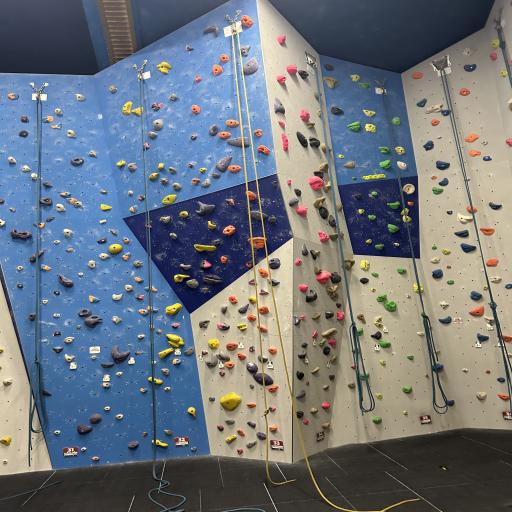holds: (220, 392, 242, 411), (111, 345, 130, 364), (216, 156, 234, 172), (242, 57, 258, 75), (253, 373, 274, 386), (166, 334, 185, 348), (84, 315, 103, 328), (196, 202, 215, 215), (309, 176, 325, 191), (227, 137, 250, 147), (248, 237, 267, 249), (323, 76, 340, 89), (10, 228, 32, 238), (203, 274, 223, 285), (59, 274, 74, 288), (316, 271, 332, 284), (274, 97, 286, 114), (457, 212, 474, 224), (248, 211, 268, 221), (424, 104, 444, 114), (326, 285, 339, 300), (166, 303, 182, 315), (194, 244, 217, 252), (204, 25, 219, 37), (158, 348, 174, 359), (162, 194, 178, 205), (297, 132, 308, 148), (30, 250, 44, 262), (157, 62, 171, 74), (342, 258, 356, 270), (77, 424, 93, 434), (461, 243, 477, 253), (206, 354, 218, 367), (122, 101, 133, 115), (216, 350, 231, 360), (469, 306, 484, 316), (152, 439, 168, 448), (174, 274, 190, 283), (208, 338, 220, 350), (241, 15, 253, 27), (296, 205, 308, 217), (306, 290, 318, 302), (318, 230, 330, 242), (362, 174, 386, 180), (268, 258, 281, 269), (222, 225, 236, 235), (402, 184, 416, 194), (347, 122, 361, 132), (322, 328, 337, 337), (246, 362, 258, 373), (239, 45, 251, 56), (330, 272, 342, 283), (314, 197, 326, 208), (40, 196, 53, 206), (109, 244, 122, 254), (437, 160, 450, 170), (282, 133, 289, 151), (463, 47, 477, 56), (0, 436, 12, 446), (90, 414, 102, 424), (78, 309, 93, 317), (148, 377, 163, 385), (213, 64, 223, 76), (209, 124, 219, 136), (286, 65, 298, 75), (310, 136, 320, 148), (384, 301, 396, 311), (380, 159, 392, 169), (480, 228, 495, 236), (186, 279, 199, 288), (71, 157, 84, 166), (335, 225, 344, 238), (238, 304, 249, 314), (258, 268, 269, 278), (153, 119, 163, 130), (323, 181, 333, 192), (319, 162, 329, 173), (321, 143, 332, 153), (423, 140, 434, 150), (471, 290, 482, 300), (131, 107, 143, 116), (258, 145, 270, 154), (301, 110, 310, 122), (388, 224, 400, 233), (454, 230, 469, 237), (217, 322, 230, 330), (226, 119, 239, 127), (301, 243, 309, 256), (331, 107, 344, 115), (466, 134, 479, 142), (489, 202, 502, 210), (439, 316, 452, 324), (258, 354, 268, 364), (201, 178, 211, 188), (360, 260, 370, 270), (366, 123, 376, 133), (298, 70, 309, 79), (395, 146, 406, 155), (432, 269, 443, 278), (246, 440, 258, 448), (89, 295, 101, 303), (200, 260, 212, 268), (51, 122, 63, 130), (226, 342, 238, 350), (258, 306, 270, 314), (320, 207, 328, 219), (432, 364, 444, 372), (379, 340, 391, 348), (379, 146, 391, 154), (478, 333, 490, 341), (267, 279, 280, 286), (228, 165, 241, 172), (387, 202, 400, 209), (486, 259, 499, 266), (122, 252, 132, 261), (184, 347, 194, 356), (128, 162, 137, 172), (246, 191, 256, 200), (277, 34, 286, 44), (289, 197, 299, 206), (357, 314, 366, 324), (397, 161, 407, 170), (417, 98, 427, 107), (2, 378, 13, 386), (128, 441, 139, 449), (188, 407, 196, 418), (199, 320, 210, 328), (149, 172, 160, 180), (476, 392, 487, 400), (371, 332, 382, 340), (376, 294, 387, 302), (484, 316, 495, 324), (501, 334, 512, 342), (8, 93, 20, 100), (40, 264, 52, 271), (42, 116, 54, 123), (218, 132, 232, 138), (329, 215, 336, 227), (498, 393, 510, 400), (432, 187, 444, 194), (464, 64, 476, 71), (296, 371, 305, 380), (28, 313, 38, 321), (65, 354, 75, 362), (63, 229, 73, 237), (112, 316, 122, 324), (56, 204, 66, 212), (88, 150, 98, 158), (67, 130, 77, 138), (296, 390, 306, 398), (337, 310, 345, 320), (160, 216, 170, 224), (220, 54, 230, 62), (154, 103, 164, 111), (225, 198, 235, 206), (329, 233, 339, 241), (314, 171, 324, 179), (324, 63, 334, 71), (360, 372, 370, 380), (402, 386, 412, 394), (460, 88, 470, 96), (492, 39, 500, 49), (363, 110, 376, 116), (41, 389, 52, 396), (226, 435, 237, 442), (99, 253, 110, 260), (180, 263, 191, 270), (8, 156, 17, 164), (52, 347, 64, 353), (161, 368, 170, 376), (66, 198, 78, 204), (298, 351, 307, 359), (312, 312, 321, 320), (109, 85, 117, 94), (192, 105, 200, 114), (277, 76, 286, 84), (299, 284, 308, 292), (328, 339, 336, 348), (403, 215, 412, 223), (343, 162, 355, 168), (392, 117, 400, 126), (469, 150, 481, 156), (19, 130, 29, 137), (22, 165, 32, 172), (97, 237, 107, 244), (101, 363, 115, 368), (138, 309, 148, 316), (148, 306, 158, 313), (75, 94, 85, 101), (256, 432, 266, 439), (225, 361, 235, 368), (268, 385, 278, 392), (237, 324, 247, 331), (228, 296, 238, 303), (247, 314, 257, 321), (294, 315, 301, 325), (172, 183, 182, 190), (350, 74, 360, 81), (413, 72, 423, 79), (372, 417, 382, 424), (439, 178, 449, 185), (467, 206, 477, 213), (431, 256, 441, 263), (64, 337, 75, 343), (101, 204, 112, 210), (491, 277, 502, 283), (21, 115, 29, 123), (88, 260, 96, 268), (54, 108, 62, 116), (238, 352, 246, 360), (323, 347, 331, 355), (330, 355, 338, 363), (326, 310, 334, 318), (208, 221, 216, 229), (294, 188, 302, 196), (314, 266, 322, 274), (441, 301, 449, 309), (490, 52, 498, 60), (237, 429, 246, 436), (247, 421, 256, 428), (311, 367, 320, 374), (249, 278, 258, 285), (431, 119, 440, 126), (134, 261, 144, 267), (112, 294, 122, 300), (61, 192, 71, 198), (226, 418, 236, 424), (246, 402, 256, 408), (259, 288, 269, 294), (248, 297, 258, 303), (257, 326, 267, 332), (148, 132, 158, 138), (359, 82, 369, 88), (397, 268, 407, 274), (31, 173, 39, 180), (170, 232, 177, 240), (296, 411, 304, 418), (322, 402, 330, 409), (247, 260, 254, 268), (180, 211, 188, 218), (130, 205, 138, 212), (151, 102, 159, 109), (168, 167, 176, 174), (161, 178, 169, 185), (212, 171, 220, 178), (278, 120, 285, 128), (295, 258, 302, 266), (318, 339, 326, 346), (314, 92, 322, 99), (308, 122, 316, 129), (446, 400, 454, 407), (401, 208, 409, 215), (442, 109, 450, 116), (42, 182, 53, 187), (46, 216, 55, 222), (164, 430, 173, 436), (125, 285, 134, 291), (135, 277, 144, 283), (171, 323, 180, 329), (268, 348, 277, 354), (117, 160, 126, 166), (192, 178, 201, 184), (268, 217, 277, 223), (310, 250, 316, 259), (360, 278, 369, 284), (442, 248, 451, 254), (34, 223, 44, 228), (374, 322, 384, 327), (221, 256, 228, 263), (170, 94, 177, 101), (336, 204, 343, 211), (501, 70, 508, 77), (0, 218, 6, 226), (92, 456, 100, 462), (103, 382, 111, 388), (110, 230, 118, 236), (74, 202, 82, 208), (269, 426, 277, 432), (221, 306, 227, 314), (310, 408, 318, 414), (322, 422, 330, 428), (312, 331, 318, 339), (213, 240, 221, 246), (186, 45, 194, 51), (194, 76, 202, 82), (190, 134, 198, 140), (254, 130, 262, 136), (348, 382, 356, 388), (357, 328, 363, 336), (376, 244, 384, 250), (354, 194, 362, 200), (506, 138, 512, 146), (483, 156, 492, 161), (217, 426, 224, 432), (150, 286, 157, 292), (155, 328, 162, 334), (269, 406, 276, 412), (249, 346, 256, 352), (301, 342, 308, 348), (272, 181, 278, 188), (54, 331, 62, 336), (140, 388, 148, 393), (173, 359, 181, 364), (498, 377, 506, 382), (352, 348, 360, 353), (371, 272, 379, 277), (368, 215, 376, 220), (10, 206, 16, 212), (238, 448, 244, 454), (123, 237, 129, 243), (202, 288, 208, 294), (329, 374, 335, 380), (139, 195, 145, 201), (158, 164, 164, 170), (376, 393, 382, 399), (380, 360, 386, 366), (376, 316, 382, 322), (54, 430, 61, 435), (116, 414, 123, 419), (138, 334, 145, 339), (219, 371, 226, 376), (323, 385, 330, 390), (143, 143, 150, 148), (407, 355, 414, 360), (208, 397, 216, 401), (136, 295, 144, 299), (318, 110, 322, 118), (81, 447, 87, 452), (100, 219, 106, 224), (149, 325, 155, 330), (336, 303, 342, 308), (188, 163, 194, 168), (366, 239, 372, 244), (358, 209, 364, 214), (372, 191, 378, 196), (17, 266, 24, 270), (42, 300, 49, 304), (104, 406, 111, 410), (164, 387, 171, 391), (66, 248, 73, 252), (100, 190, 107, 194), (199, 168, 206, 172), (434, 350, 441, 354), (447, 280, 454, 284), (505, 284, 512, 288), (417, 332, 424, 336), (3, 459, 8, 464), (92, 355, 97, 360), (145, 286, 150, 291), (483, 285, 488, 290), (0, 348, 4, 354), (0, 199, 6, 203), (18, 284, 24, 288), (54, 314, 60, 318), (142, 432, 148, 436), (191, 447, 197, 451), (54, 291, 60, 295), (54, 240, 60, 244), (134, 350, 140, 354), (116, 372, 122, 376), (151, 360, 157, 364), (202, 351, 208, 355), (300, 315, 306, 319), (128, 191, 134, 195), (288, 180, 292, 186), (315, 251, 321, 255), (351, 365, 357, 369), (408, 202, 414, 206), (482, 141, 488, 145), (446, 210, 452, 214), (76, 325, 81, 329), (78, 272, 83, 276), (250, 384, 254, 389), (403, 411, 408, 415), (463, 368, 468, 372), (371, 288, 376, 292), (406, 294, 411, 298), (339, 154, 344, 158), (396, 219, 402, 222), (431, 176, 437, 179), (432, 246, 438, 249), (446, 265, 452, 268), (464, 178, 470, 181), (304, 420, 308, 424), (486, 370, 490, 374), (508, 353, 512, 357), (394, 243, 399, 246), (352, 177, 357, 180), (437, 136, 442, 139), (306, 381, 309, 385), (425, 374, 429, 377)
